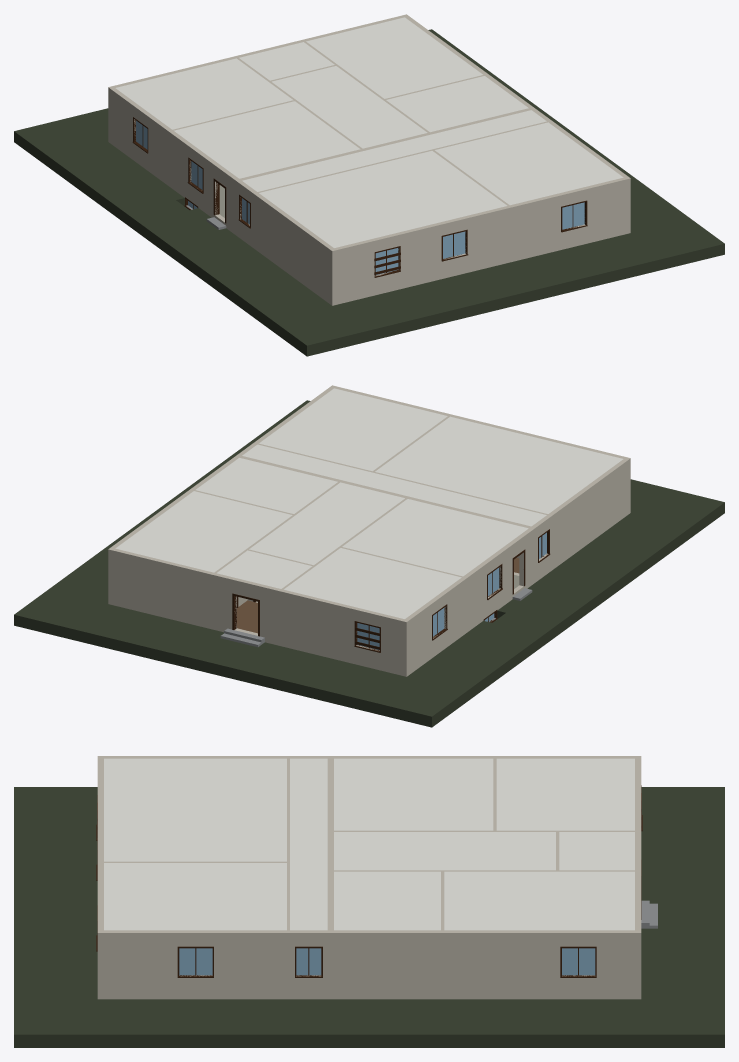
Rendered from Bungalow_Greybox.fbx.
3 renders of one model, top to bottom at view 1: azimuth 30°, elevation 25°; view 2: azimuth 150°, elevation 25°; view 3: azimuth 270°, elevation 25°, orthographic. The views are drawn at different scales.
Parts seen in each view (by area): view 1: Ext_Ground, Wall_Ext_N2, Ceiling_Parlour, Ceiling_MasterBedroom, Ceiling_Kitchen, Ceiling_Bedroom, Ceiling_Living, Wall_Ext_E, Ceiling_CentralHall, Wall_Ext_E2, Ceiling_Corridor, Ceiling_Bathroom (+5 smaller); view 2: Ext_Ground, Wall_Ext_S, Ceiling_Parlour, Ceiling_MasterBedroom, Ceiling_Kitchen, Ceiling_Bedroom, Ceiling_Living, Wall_Ext_E, Ceiling_CentralHall, Wall_Ext_E2, Ceiling_Corridor, Ceiling_Bathroom (+6 smaller); view 3: Ext_Ground, Wall_Ext_W, Ceiling_Parlour, Wall_Ext_W2, Ceiling_MasterBedroom, Ceiling_Kitchen, Ceiling_Bedroom, Ceiling_Living, Ceiling_CentralHall, Ceiling_Corridor, Ceiling_Bathroom, Ceiling_EntranceHall (+11 smaller).
Part boxes in pixels (bbox=[...]): Ext_Ground: bbox=[14, 29, 724, 356]; Wall_Ext_N2: bbox=[329, 176, 630, 305]; Ceiling_Parlour: bbox=[259, 151, 507, 247]; Ceiling_MasterBedroom: bbox=[435, 122, 623, 205]; Ceiling_Kitchen: bbox=[174, 101, 360, 178]; Ceiling_Bedroom: bbox=[306, 17, 482, 98]; Ceiling_Living: bbox=[115, 58, 293, 129]; Wall_Ext_E: bbox=[110, 88, 238, 234]; Ceiling_CentralHall: bbox=[272, 66, 427, 148]; Wall_Ext_E2: bbox=[237, 181, 333, 303]; Ceiling_Corridor: bbox=[242, 110, 546, 191]; Ceiling_Bathroom: bbox=[386, 76, 528, 132]; Ext_Ground: bbox=[14, 400, 724, 727]; Wall_Ext_S: bbox=[108, 547, 409, 676]; Ceiling_Parlour: bbox=[375, 416, 623, 513]; Ceiling_MasterBedroom: bbox=[259, 388, 447, 471]; Ceiling_Kitchen: bbox=[342, 499, 528, 576]; Ceiling_Bedroom: bbox=[115, 491, 292, 572]; Ceiling_Living: bbox=[284, 548, 461, 618]; Wall_Ext_E: bbox=[405, 528, 533, 674]; Ceiling_CentralHall: bbox=[249, 482, 404, 565]; Wall_Ext_E2: bbox=[532, 459, 628, 581]; Ceiling_Corridor: bbox=[242, 444, 546, 526]; Ceiling_Bathroom: bbox=[196, 458, 337, 513]; Ext_Ground: bbox=[14, 787, 724, 1047]; Wall_Ext_W: bbox=[334, 930, 634, 999]; Ceiling_Parlour: bbox=[104, 758, 286, 861]; Wall_Ext_W2: bbox=[104, 930, 327, 999]; Ceiling_MasterBedroom: bbox=[104, 863, 286, 930]; Ceiling_Kitchen: bbox=[334, 758, 493, 830]; Ceiling_Bedroom: bbox=[444, 871, 634, 930]; Ceiling_Living: bbox=[496, 758, 634, 830]; Ceiling_CentralHall: bbox=[334, 832, 555, 870]; Ceiling_Corridor: bbox=[290, 758, 327, 930]; Ceiling_Bathroom: bbox=[334, 871, 440, 930]; Ceiling_EntranceHall: bbox=[559, 832, 634, 870].
Size of the model in its own units: 28 by 6.25 by 34.
